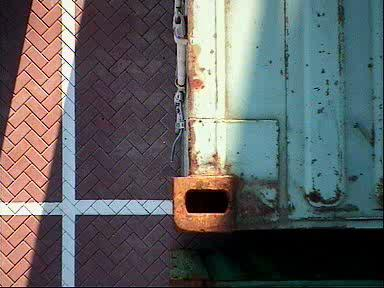groundmarker_2: (130, 31, 264, 107)
